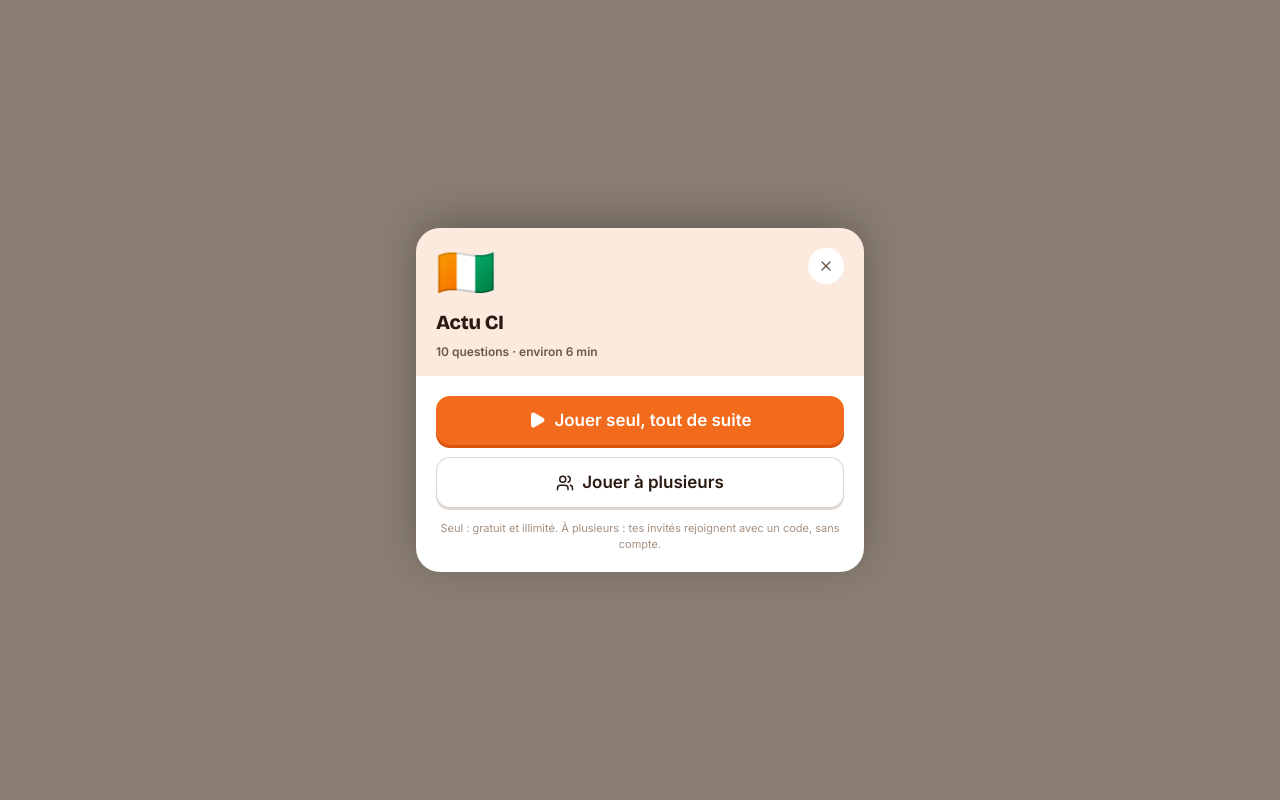
Test: feuille de lancement › seul : crée la partie solo puis la démarre aussitôt
Click the button "Jouer seul, tout de suite" at point(640, 420), box [436,396,844,445]
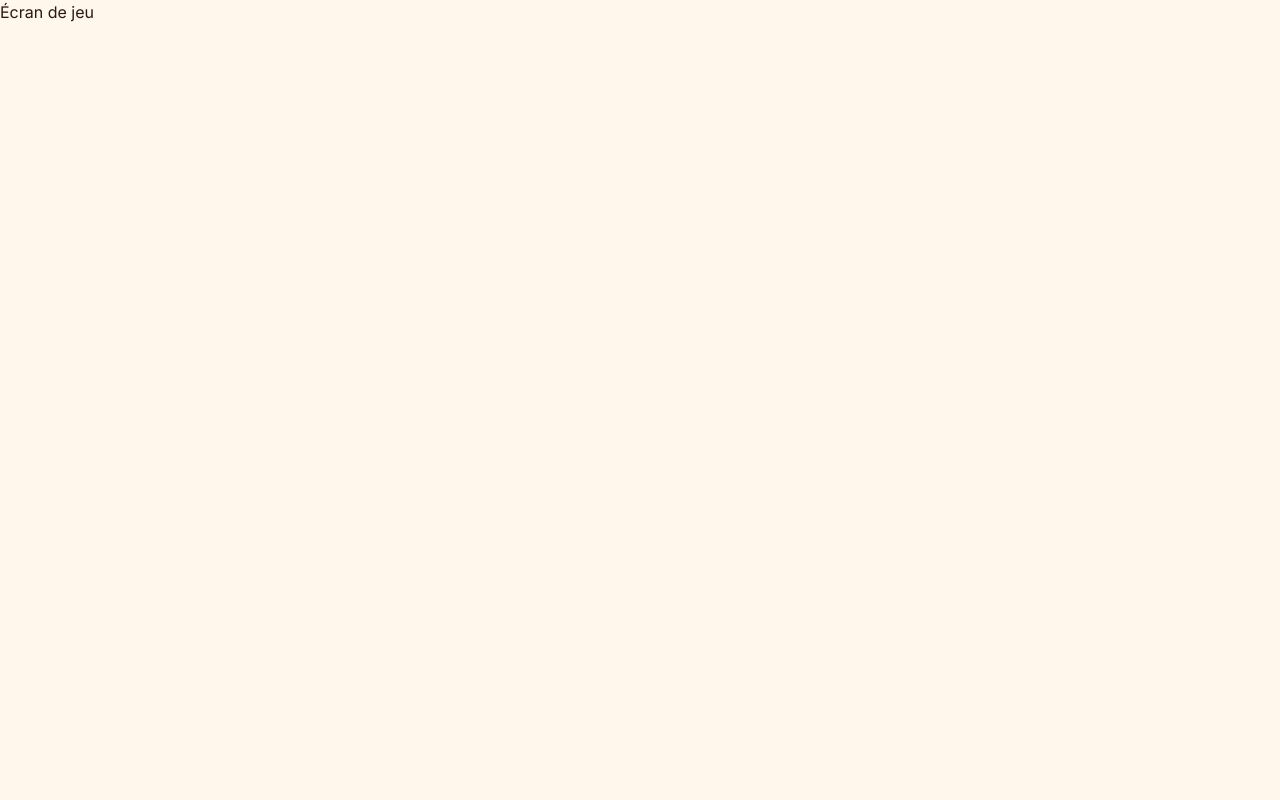
Expected: the text "Écran de jeu" is shown, [0,2,94,22]
